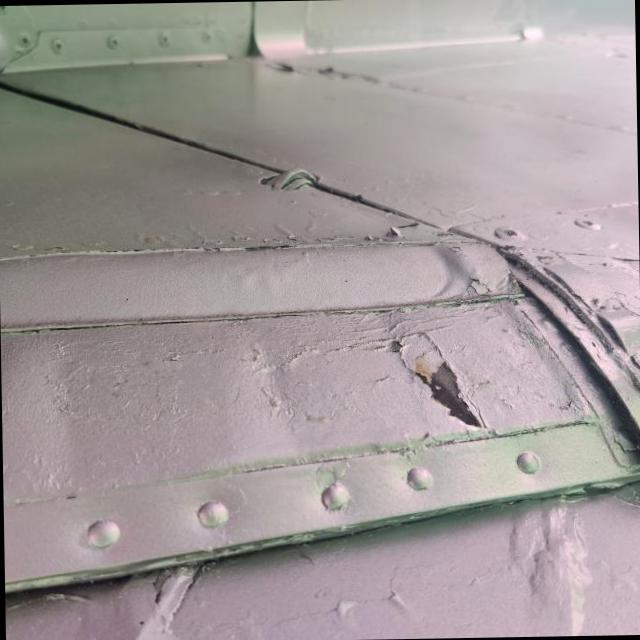crack: (401, 354, 501, 442)
